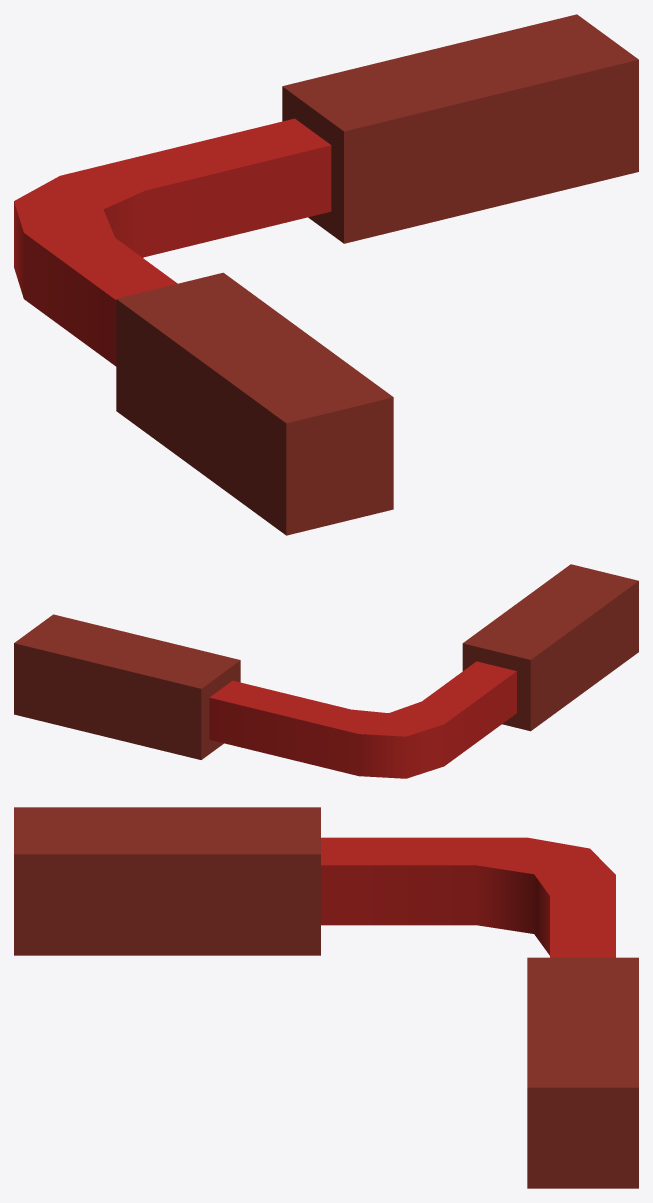
File: Cable_E_2_1.fbx
3 renders of one model, top to bottom at view 1: azimuth 30°, elevation 25°; view 2: azimuth 150°, elevation 25°; view 3: azimuth 270°, elevation 25°, orthographic. The views are drawn at different scales.
Visible parts, largest first — view 1: Cable_E_2_1; view 2: Cable_E_2_1; view 3: Cable_E_2_1.
Boxes of the visible parts, x1,y1,x2,y2 form: Cable_E_2_1: [14, 14, 638, 535]; Cable_E_2_1: [14, 564, 638, 778]; Cable_E_2_1: [14, 807, 638, 1188].
Bounding box in the file's own units: 58.35 × 9.83 × 54.97.
